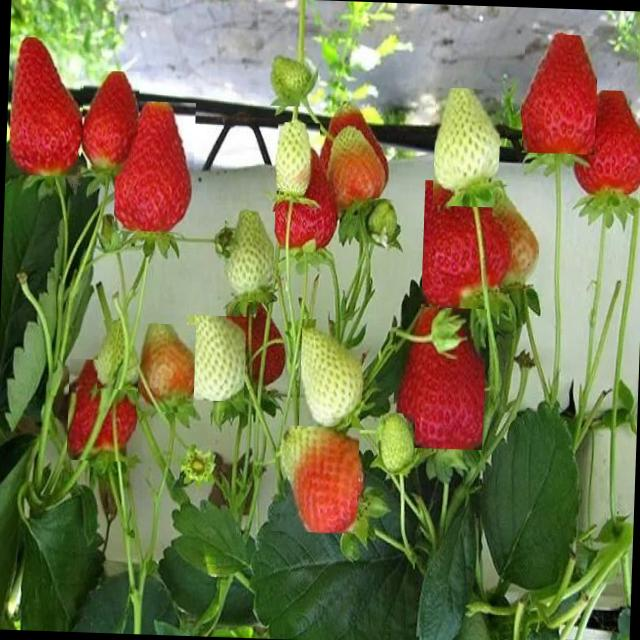ripe: (392, 306, 486, 450), (421, 180, 513, 310), (114, 99, 196, 232), (8, 36, 82, 176), (521, 33, 598, 154), (568, 88, 640, 207), (66, 358, 138, 462), (80, 70, 140, 175)
unripe: (272, 424, 360, 534), (432, 87, 501, 207), (298, 318, 363, 428), (184, 314, 246, 402), (490, 180, 540, 289), (137, 322, 196, 412), (222, 210, 275, 302), (276, 121, 321, 188), (97, 320, 139, 390), (268, 48, 318, 106), (378, 412, 415, 474), (366, 198, 398, 244)
